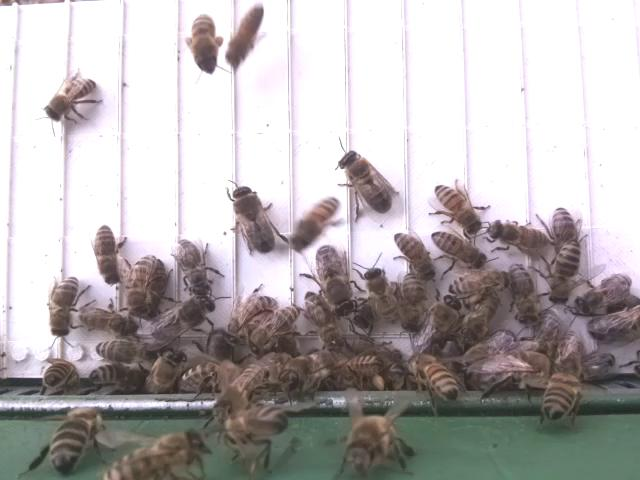Drone: (145, 291, 219, 348), (336, 149, 394, 215), (229, 183, 279, 257), (412, 291, 464, 362), (314, 243, 359, 318)
Worker: (428, 179, 492, 234), (486, 214, 551, 261), (503, 260, 545, 331), (43, 75, 100, 125), (45, 272, 83, 341), (547, 238, 584, 307), (390, 230, 437, 282), (301, 290, 339, 354), (434, 224, 487, 269), (251, 303, 296, 355), (363, 265, 400, 327), (88, 332, 155, 366), (223, 292, 275, 335), (414, 358, 463, 403), (91, 224, 124, 288), (79, 305, 142, 338), (177, 238, 212, 297), (399, 268, 428, 337), (125, 251, 155, 312)
